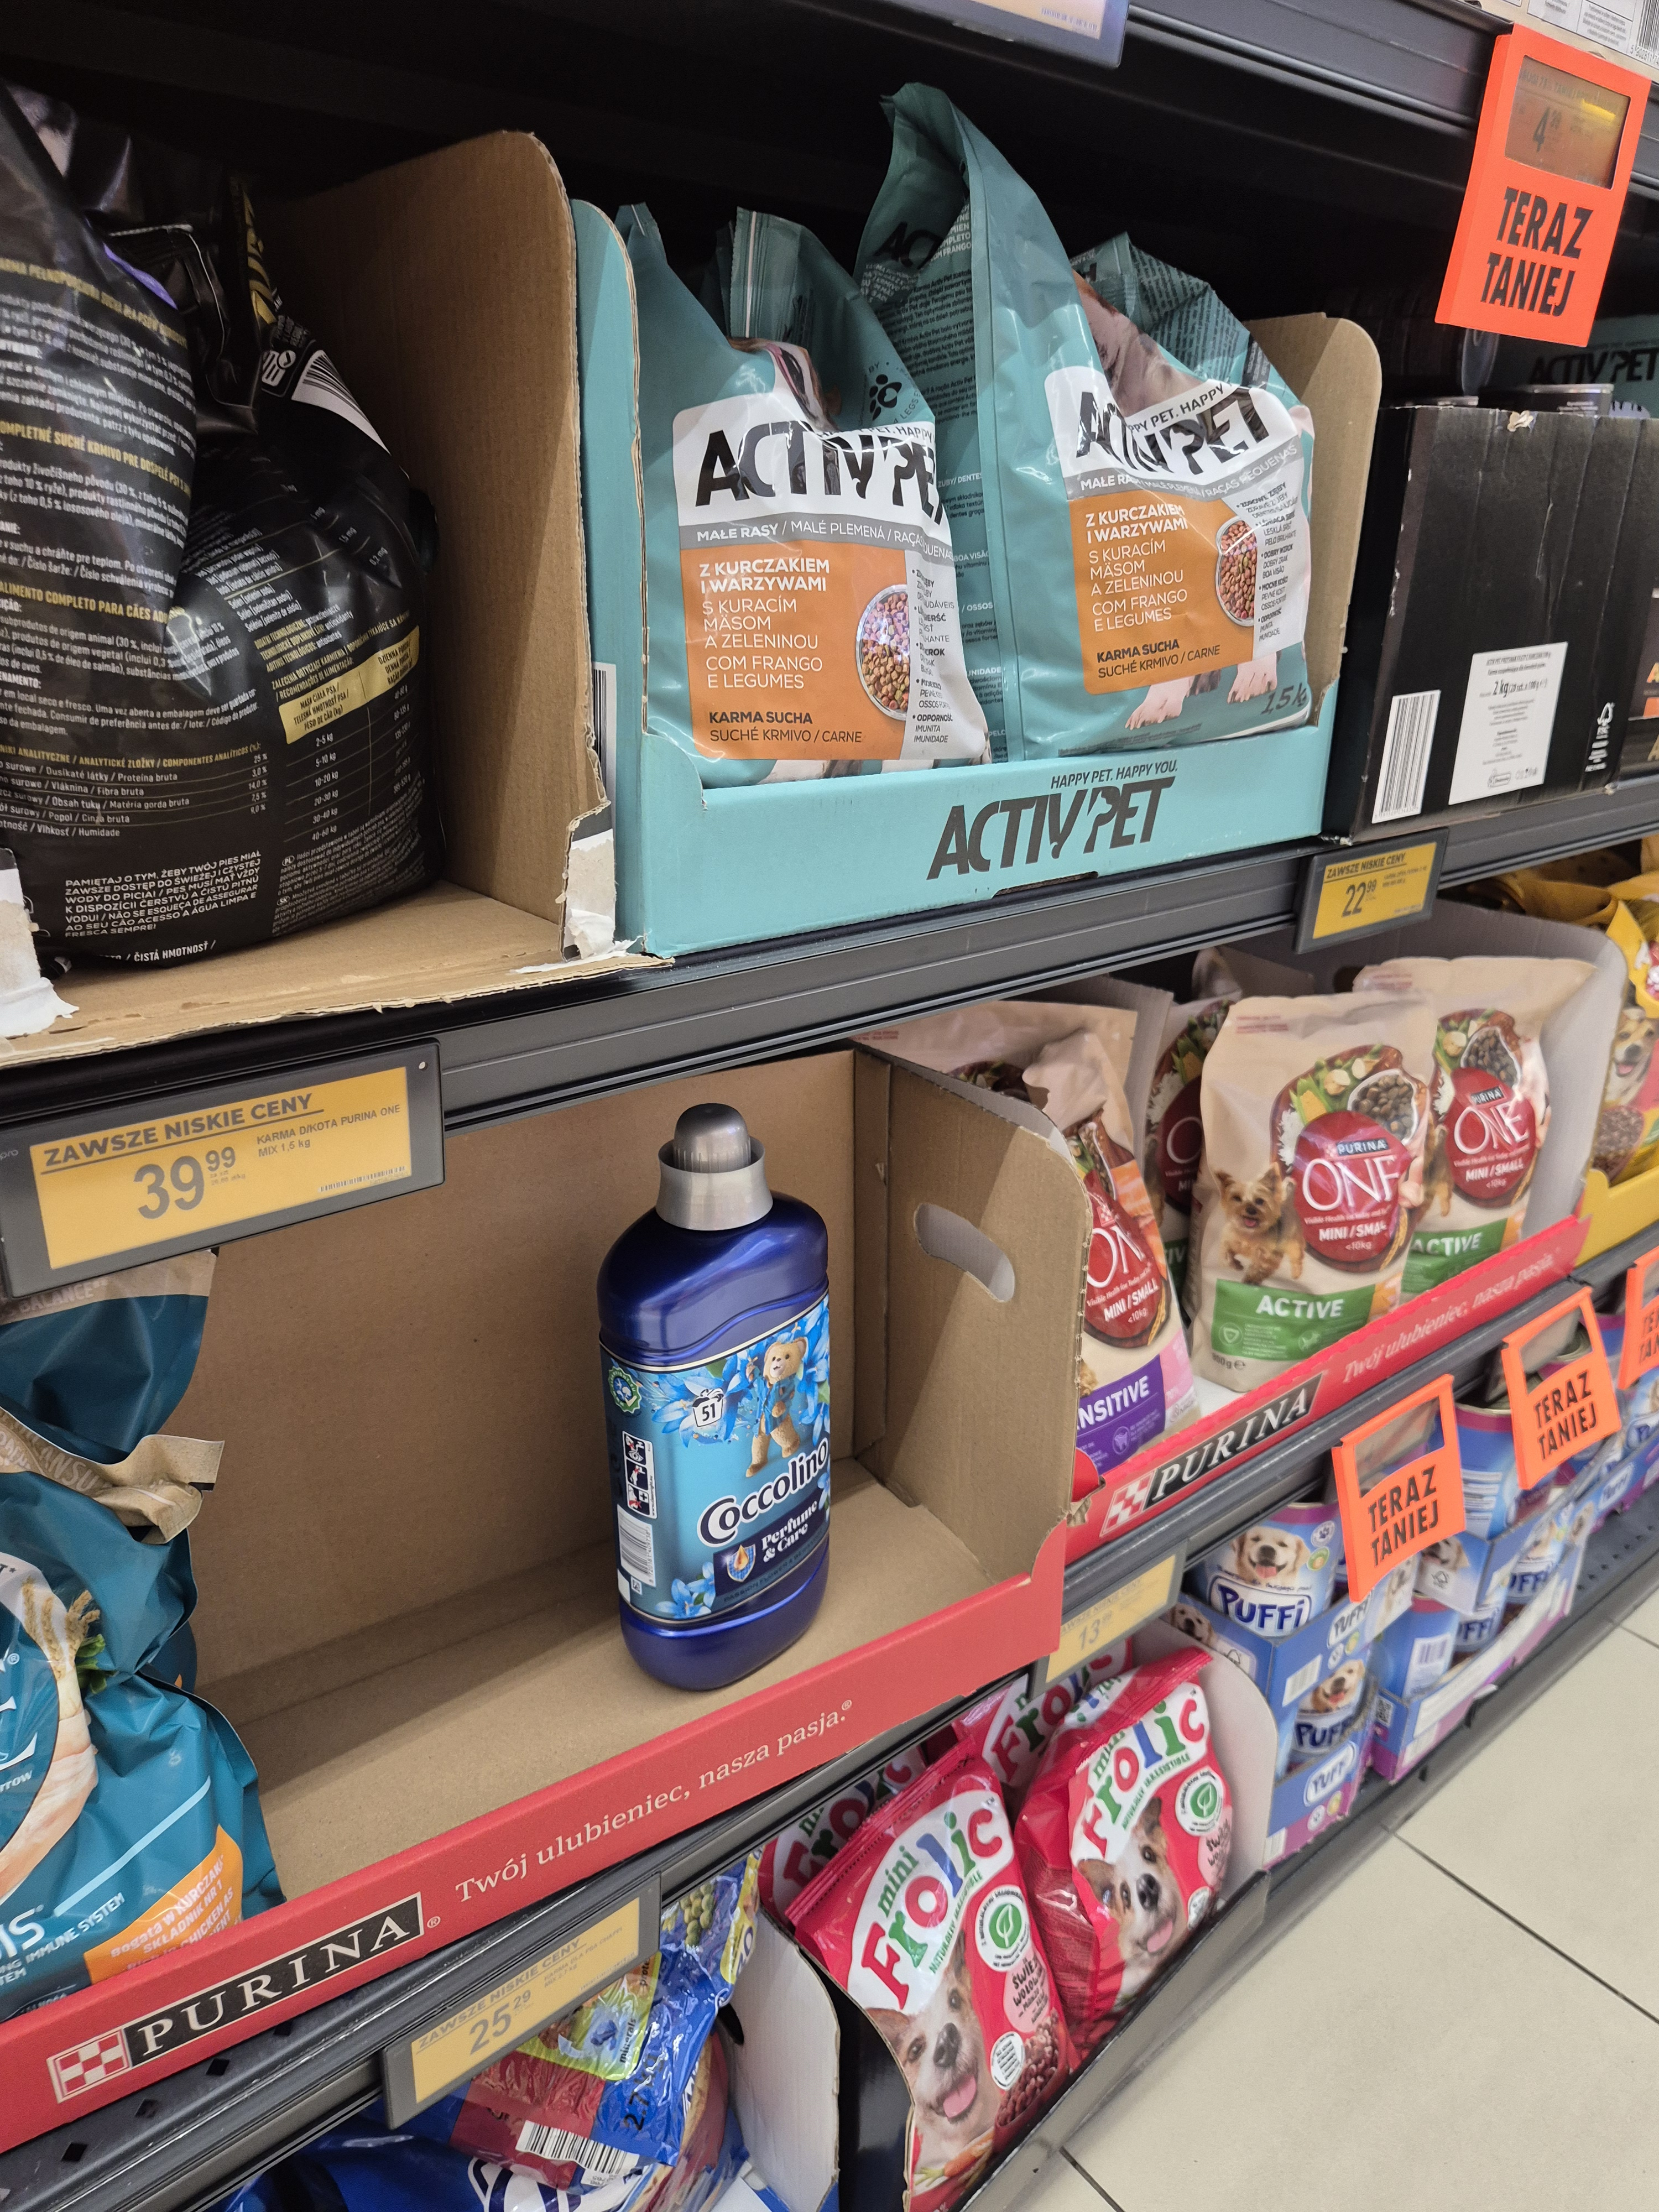cocolino: (586, 1103, 873, 1676)
